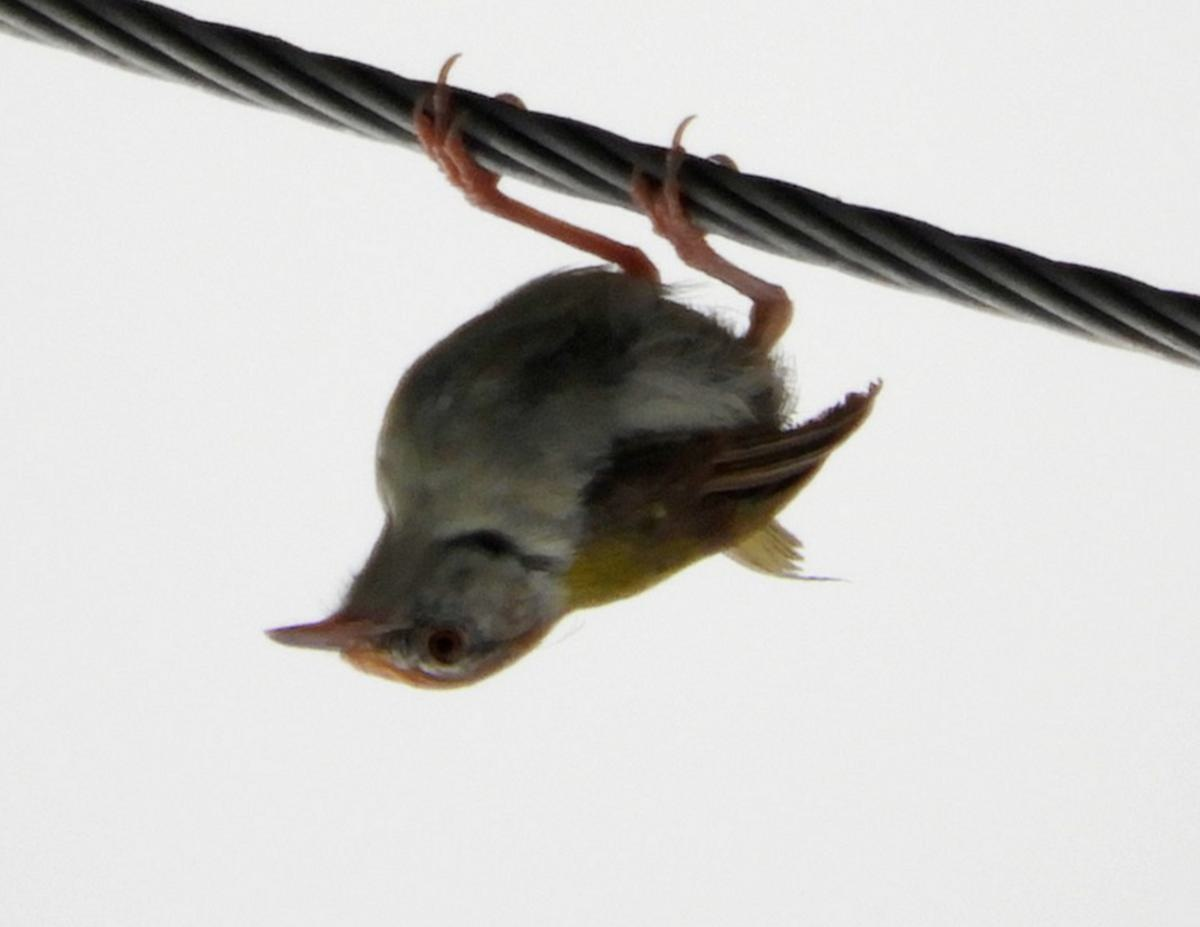tailorbird: (260, 109, 825, 714)
